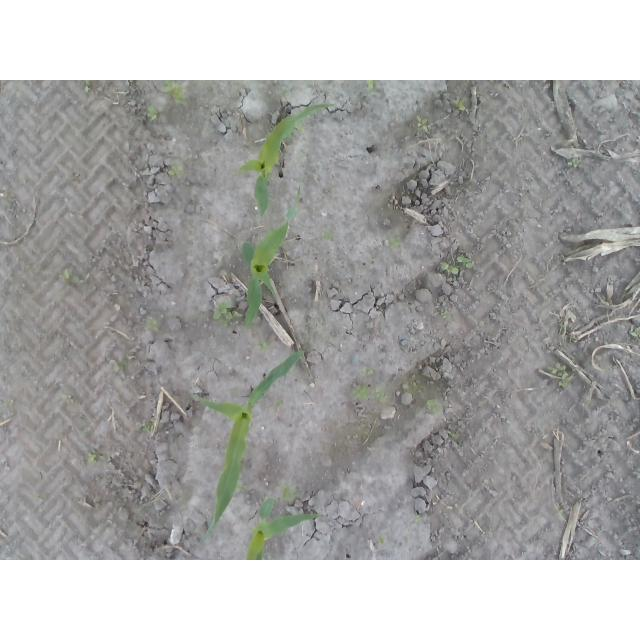Maize: (191, 351, 305, 545), (240, 101, 337, 220), (244, 185, 302, 327), (245, 498, 321, 560)
Weeds: (552, 365, 582, 388), (441, 256, 475, 276), (353, 382, 387, 402), (212, 302, 241, 325), (61, 269, 92, 286), (113, 355, 135, 375), (163, 83, 186, 100), (279, 485, 298, 500), (167, 165, 185, 179), (87, 453, 106, 466), (427, 399, 440, 415), (148, 317, 161, 331), (416, 117, 429, 130), (148, 107, 160, 121), (0, 397, 12, 411), (454, 100, 466, 113), (390, 239, 403, 250), (630, 325, 640, 339), (146, 421, 155, 435), (375, 536, 385, 548), (414, 514, 427, 523), (568, 158, 580, 167), (361, 368, 373, 377), (64, 394, 76, 403), (559, 507, 566, 522), (325, 229, 335, 239), (37, 497, 46, 506), (366, 81, 375, 90), (447, 433, 458, 440), (85, 83, 92, 94), (276, 400, 284, 409), (403, 535, 410, 545)
